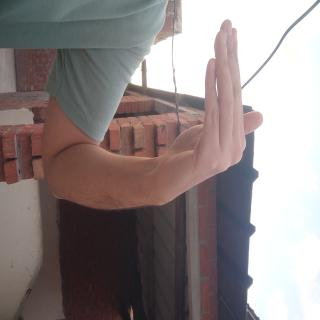KHAA: (11, 76, 157, 224)
